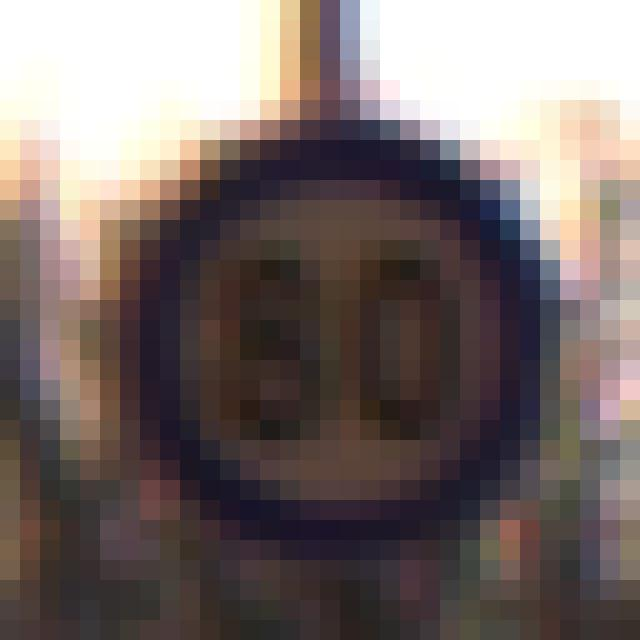SPEED-LIMIT-80: (117, 136, 568, 554)
